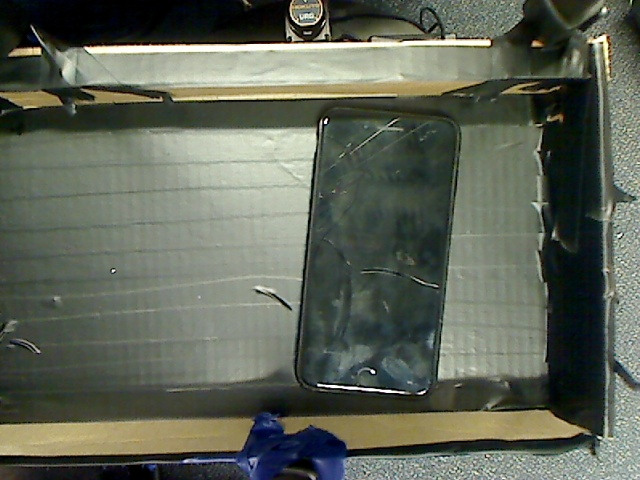phone: (289, 92, 469, 415)
